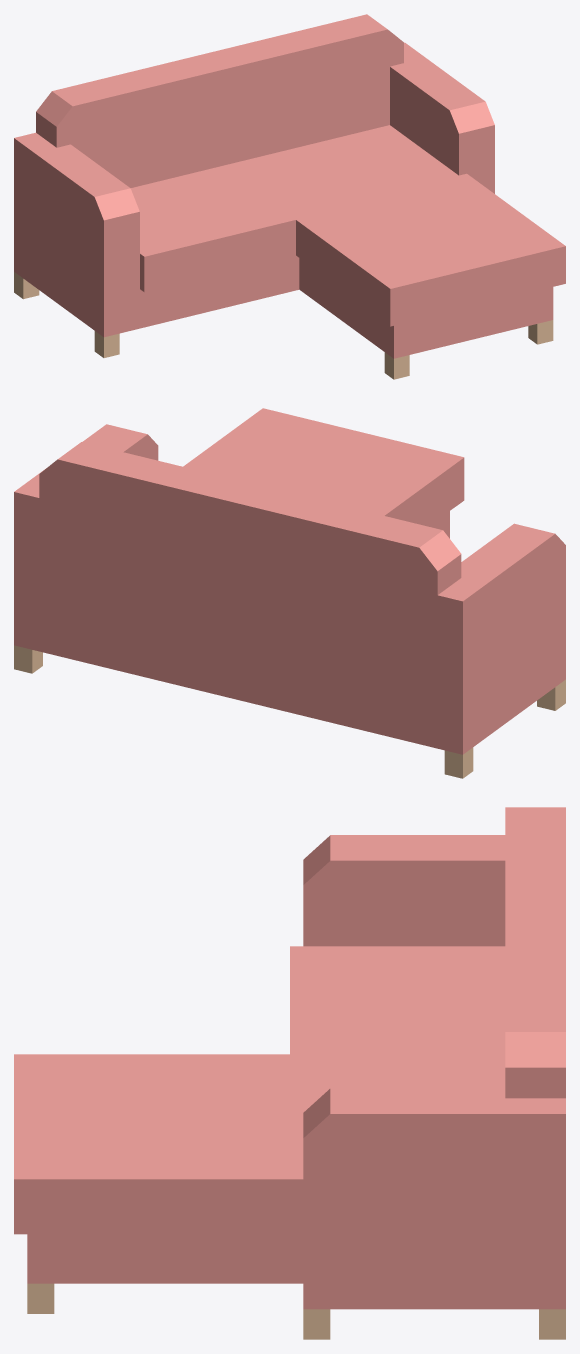
The model's file is loungeSofaLong.glb.
3 views of the same model, one above another, from view 1: azimuth 30°, elevation 25°; view 2: azimuth 150°, elevation 25°; view 3: azimuth 270°, elevation 25° (orthographic). The views are drawn at different scales.
Parts seen in each view (by area): view 1: loungeSofaLong; view 2: loungeSofaLong; view 3: loungeSofaLong.
Boxes of the visible parts, <box> form: loungeSofaLong: <box>14,14,565,379</box>; loungeSofaLong: <box>14,408,565,778</box>; loungeSofaLong: <box>14,807,565,1339</box>.
Size of the model in its own units: 0.98 by 0.46 by 0.82.
